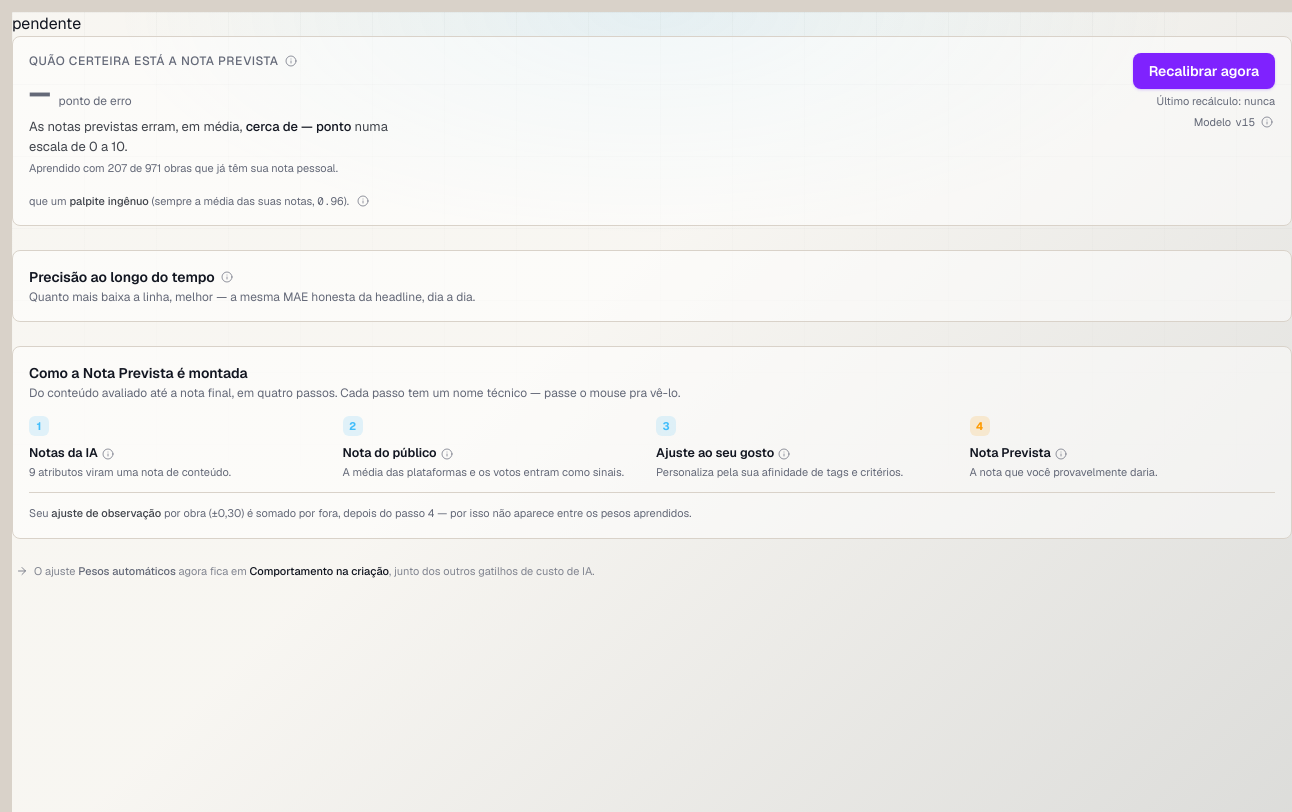
Test: recalibrar limpa o recálculo pendente do chrome › o botão da barra some sem esperar navegação nem TTL
Check: the text with test id "probe" reads "pendente", box [12, 13, 81, 34]
Click the button "Recalibrar agora" at [1204, 71], box [1133, 53, 1275, 89]
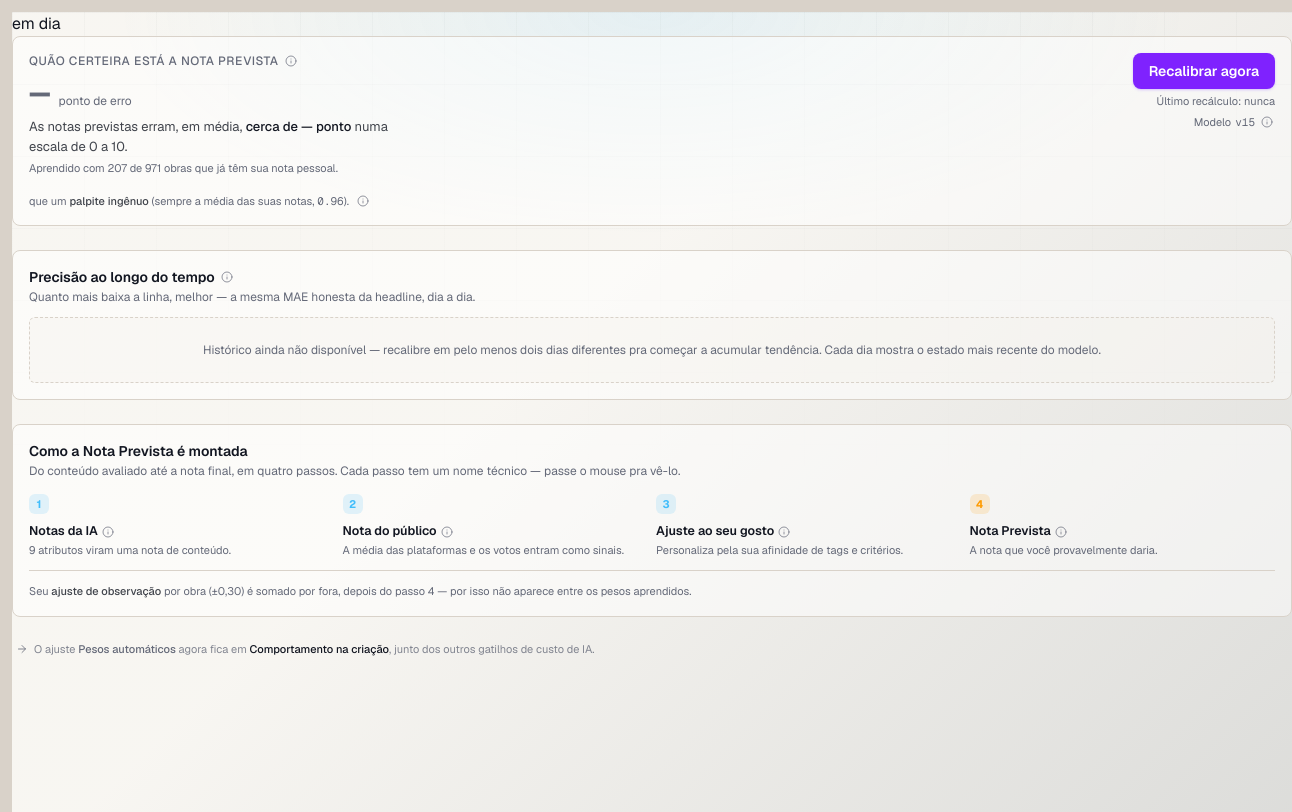
Check: the text with test id "probe" reads "em dia", box [12, 13, 61, 34]
